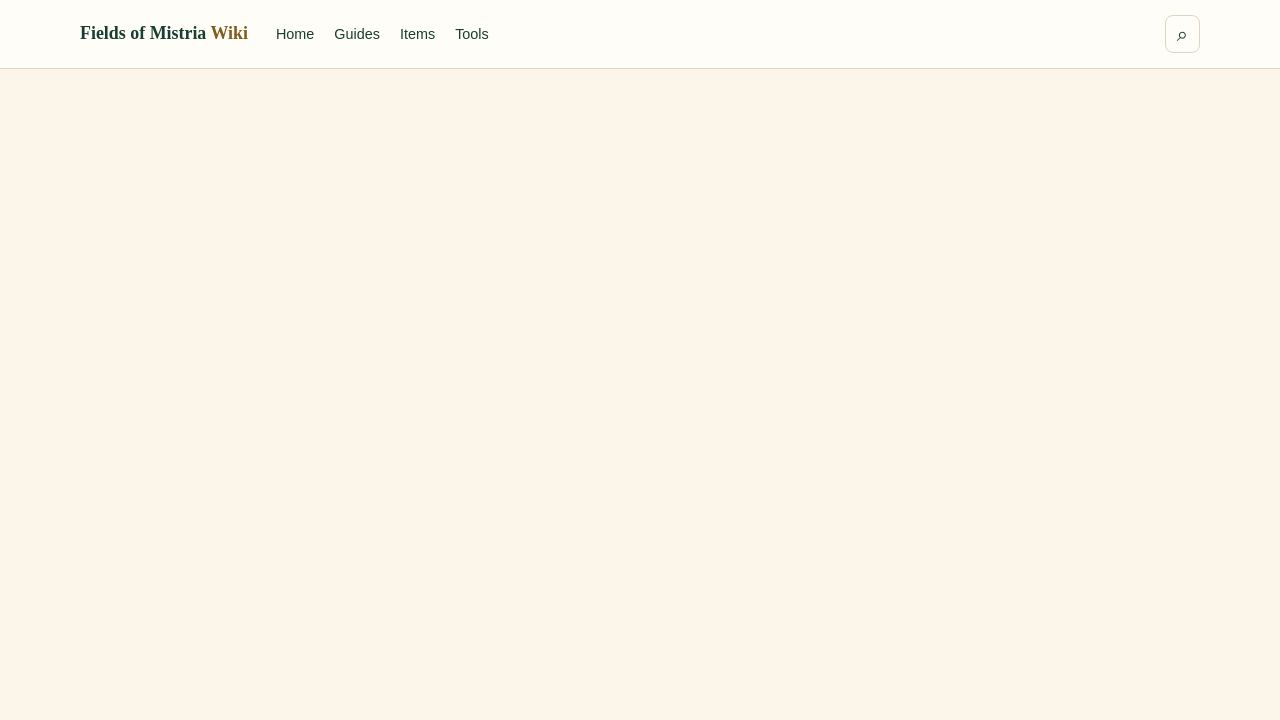
Test: SiteHeader › searches entries in a focused dialog and restores focus after Escape
The image size is (1280, 720).
Click the button named "search the wiki" at (1182, 34), box [1165, 15, 1200, 53]
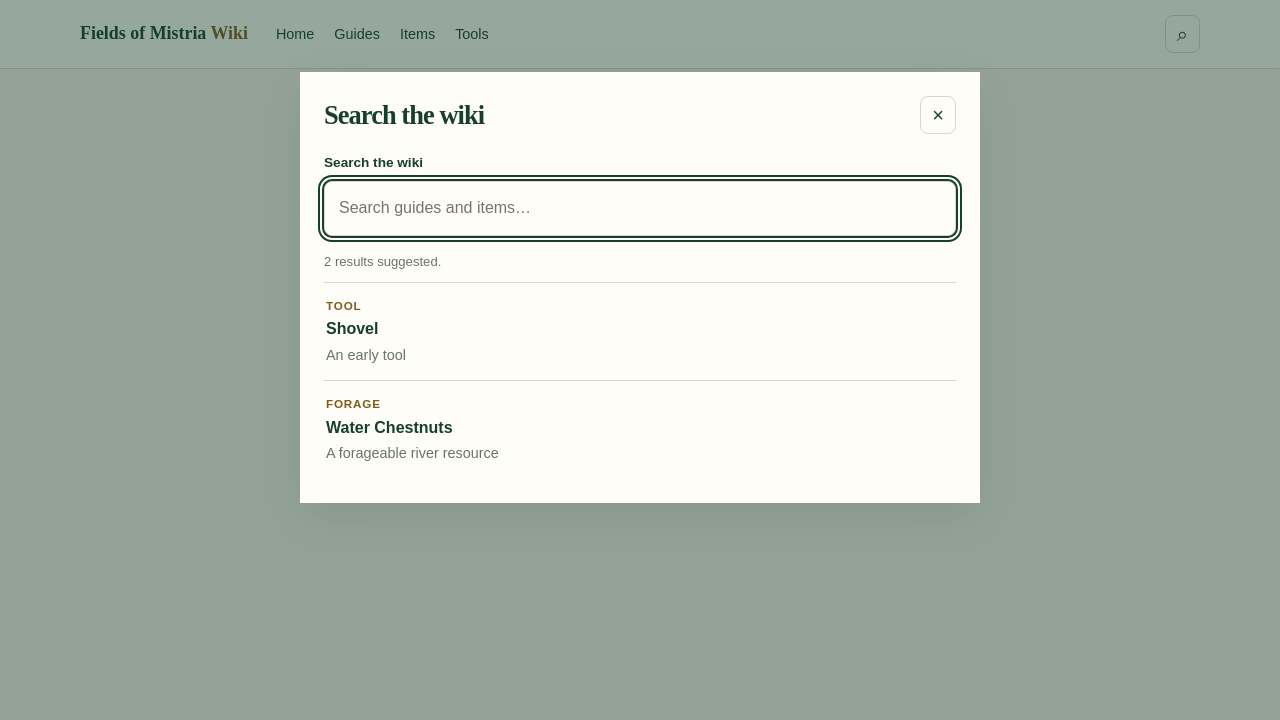
Expected: the link "Forage Water Chestnuts A forageable river resource" is shown, [326, 397, 499, 461]
Type "water" into the search field labelled "Search the wiki" at (640, 208), box [324, 181, 956, 236]
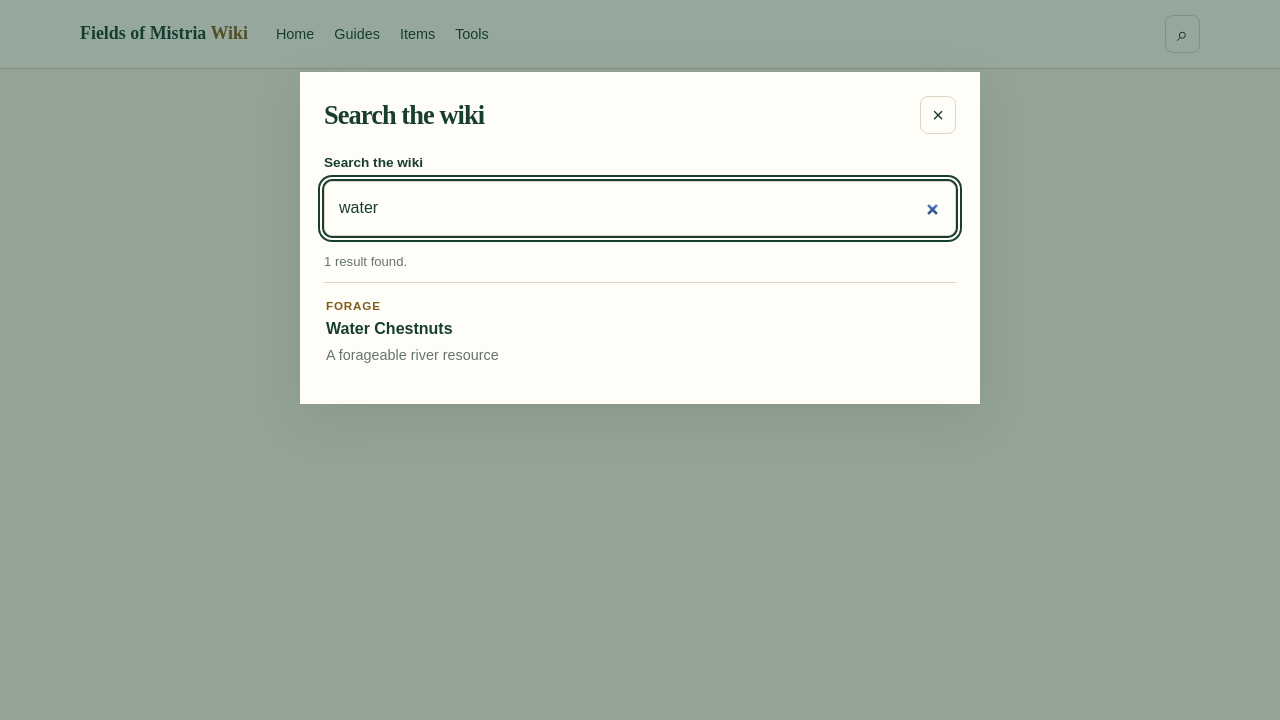
Expected: the link "Forage Water Chestnuts A forageable river resource" is shown, [326, 299, 499, 363]
Expected: the message shows "1 result", [324, 254, 407, 269]
Replace the text in the search field labelled "Search the wiki" with "missing entry" at (640, 208), box [324, 181, 956, 236]
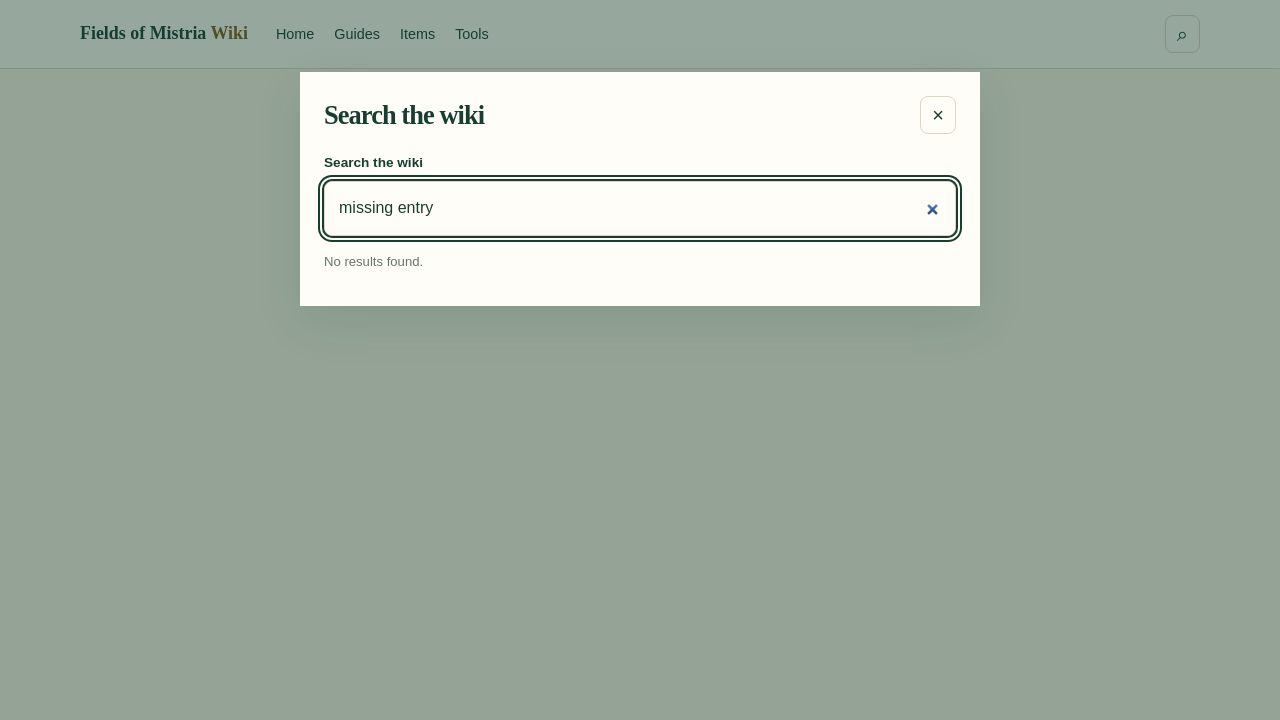
Expected: the text "No results found." is shown, [324, 254, 423, 269]
Press Escape
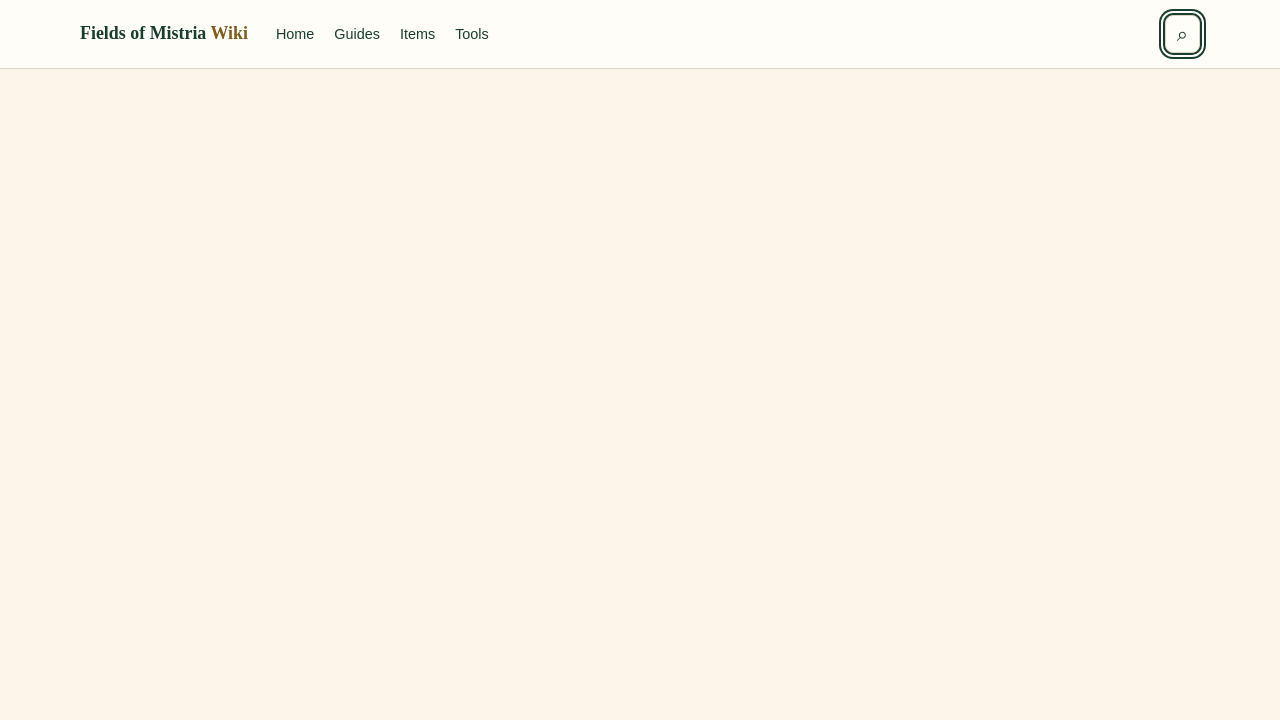
Expected: the heading "Search the wiki" is gone
